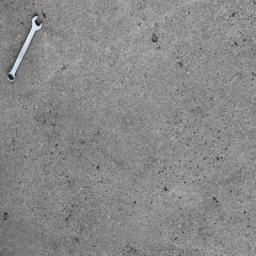FOD: (6, 13, 45, 84)
